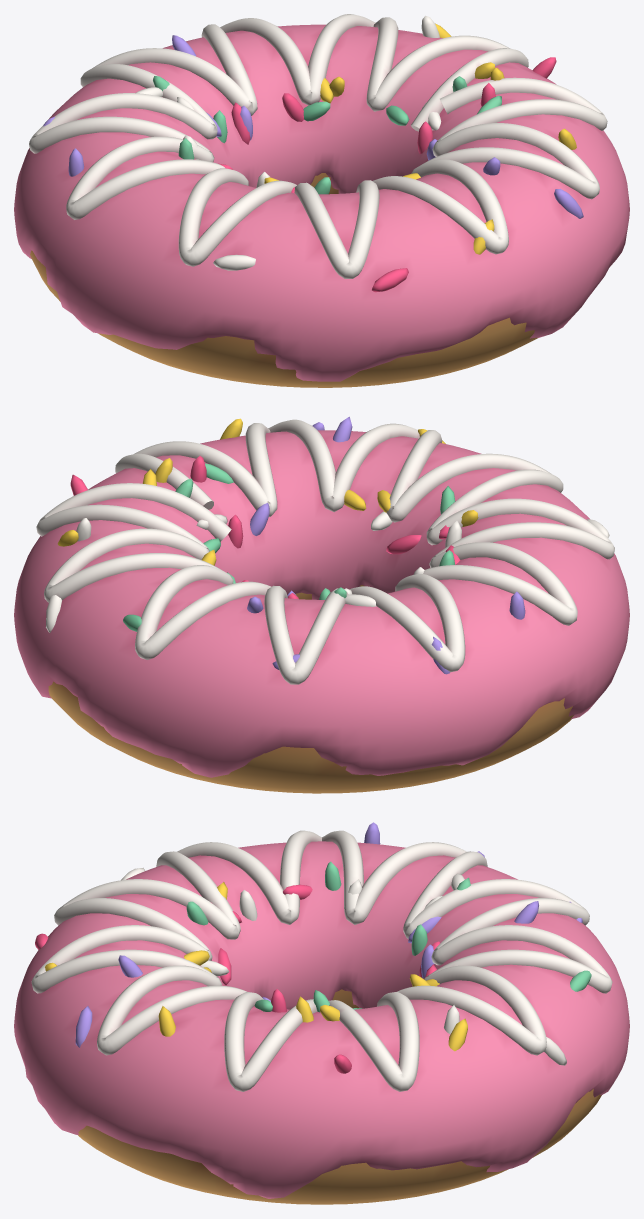
Rendered from donut.glb.
The picture shows the model from 3 angles, top to bottom: view 1: azimuth 30°, elevation 25°; view 2: azimuth 150°, elevation 25°; view 3: azimuth 270°, elevation 25°; orthographic projection.
Visible parts, largest first — view 1: glaze, drizzle, dough, gff5d8f, g7fd6a8, gb39af2, gffd84a, gfffaf3; view 2: glaze, drizzle, dough, gffd84a, gfffaf3, gb39af2, gff5d8f, g7fd6a8; view 3: glaze, drizzle, dough, gffd84a, gb39af2, g7fd6a8, gfffaf3, gff5d8f.
Part boxes in pixels (box(x1,y1,x2,y2)): glaze: box(14, 24, 629, 381); drizzle: box(29, 14, 607, 278); dough: box(30, 173, 537, 387); gff5d8f: box(218, 57, 556, 292); g7fd6a8: box(153, 76, 501, 194); gb39af2: box(43, 35, 583, 218); gffd84a: box(264, 23, 576, 254); gfffaf3: box(135, 15, 441, 270); glaze: box(14, 430, 629, 777); drizzle: box(36, 419, 614, 684); dough: box(48, 585, 573, 793); gffd84a: box(57, 418, 478, 565); gfffaf3: box(46, 511, 609, 632); gb39af2: box(247, 416, 525, 674); gff5d8f: box(70, 456, 460, 598); g7fd6a8: box(123, 463, 455, 631); glaze: box(14, 841, 629, 1198); drizzle: box(31, 830, 612, 1091); dough: box(78, 989, 601, 1204); gffd84a: box(45, 882, 467, 1051); gb39af2: box(75, 822, 582, 1047); g7fd6a8: box(186, 861, 591, 1012); gfffaf3: box(121, 867, 566, 1065); gff5d8f: box(35, 884, 440, 1073).
Bounding box in the file's own units: 0.6754 × 0.2337 × 0.6754.
